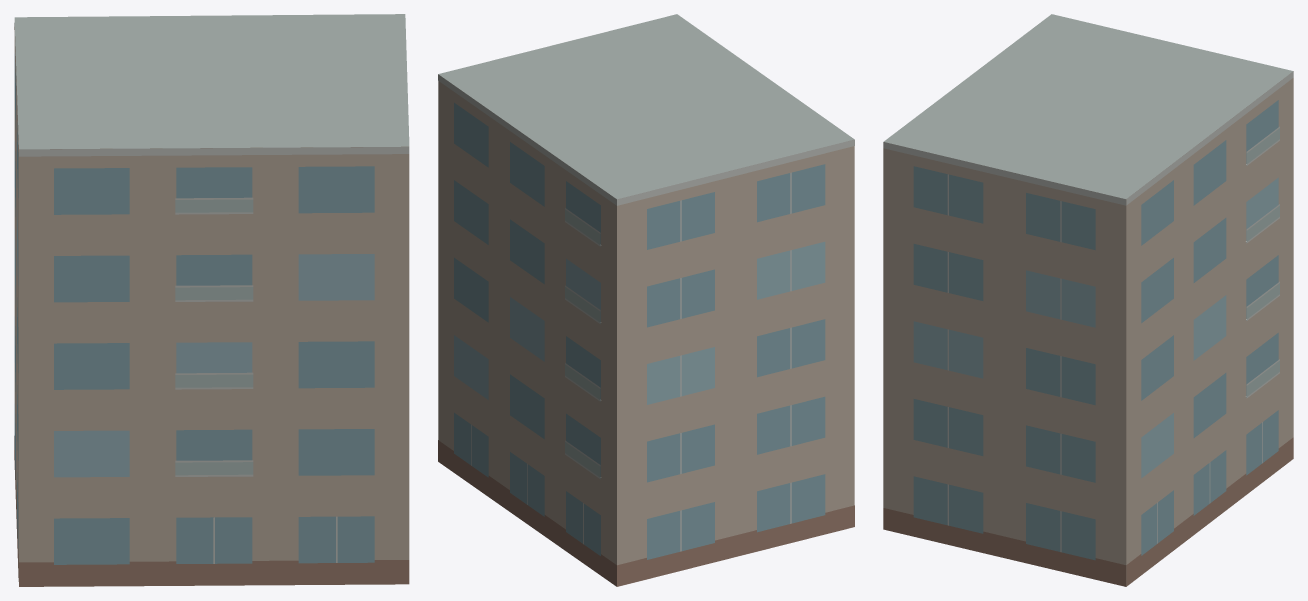
The model's file is survey-upis-33004932.glb.
3 renders of one model, left to right at view 1: azimuth 30°, elevation 25°; view 2: azimuth 150°, elevation 25°; view 3: azimuth 270°, elevation 25°, orthographic. The views are drawn at different scales.
Visible parts, largest first — view 1: survey-upis-33004932.tmp; view 2: survey-upis-33004932.tmp; view 3: survey-upis-33004932.tmp.
Boxes of the visible parts, box(x1,y1,x2,y2) form: survey-upis-33004932.tmp: box(14, 14, 409, 586); survey-upis-33004932.tmp: box(438, 14, 854, 586); survey-upis-33004932.tmp: box(883, 14, 1293, 586).
Size of the model in its own units: 14.97 by 14.6 by 14.01.
